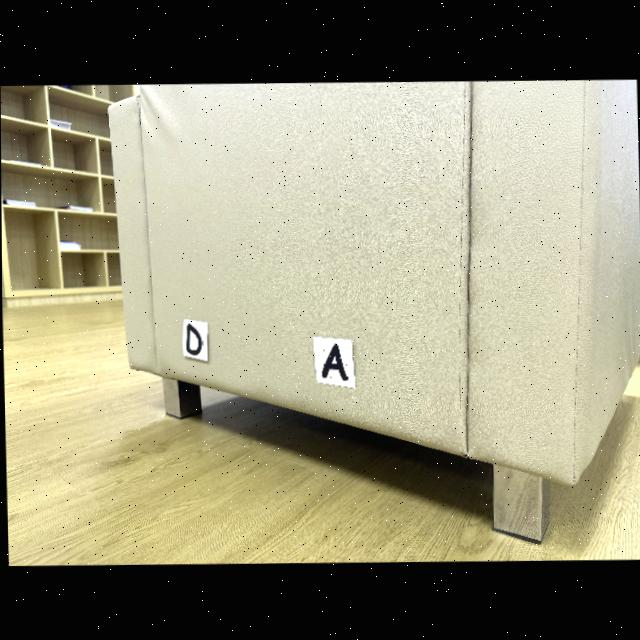A: (321, 343, 346, 380)
D: (186, 322, 201, 354)
